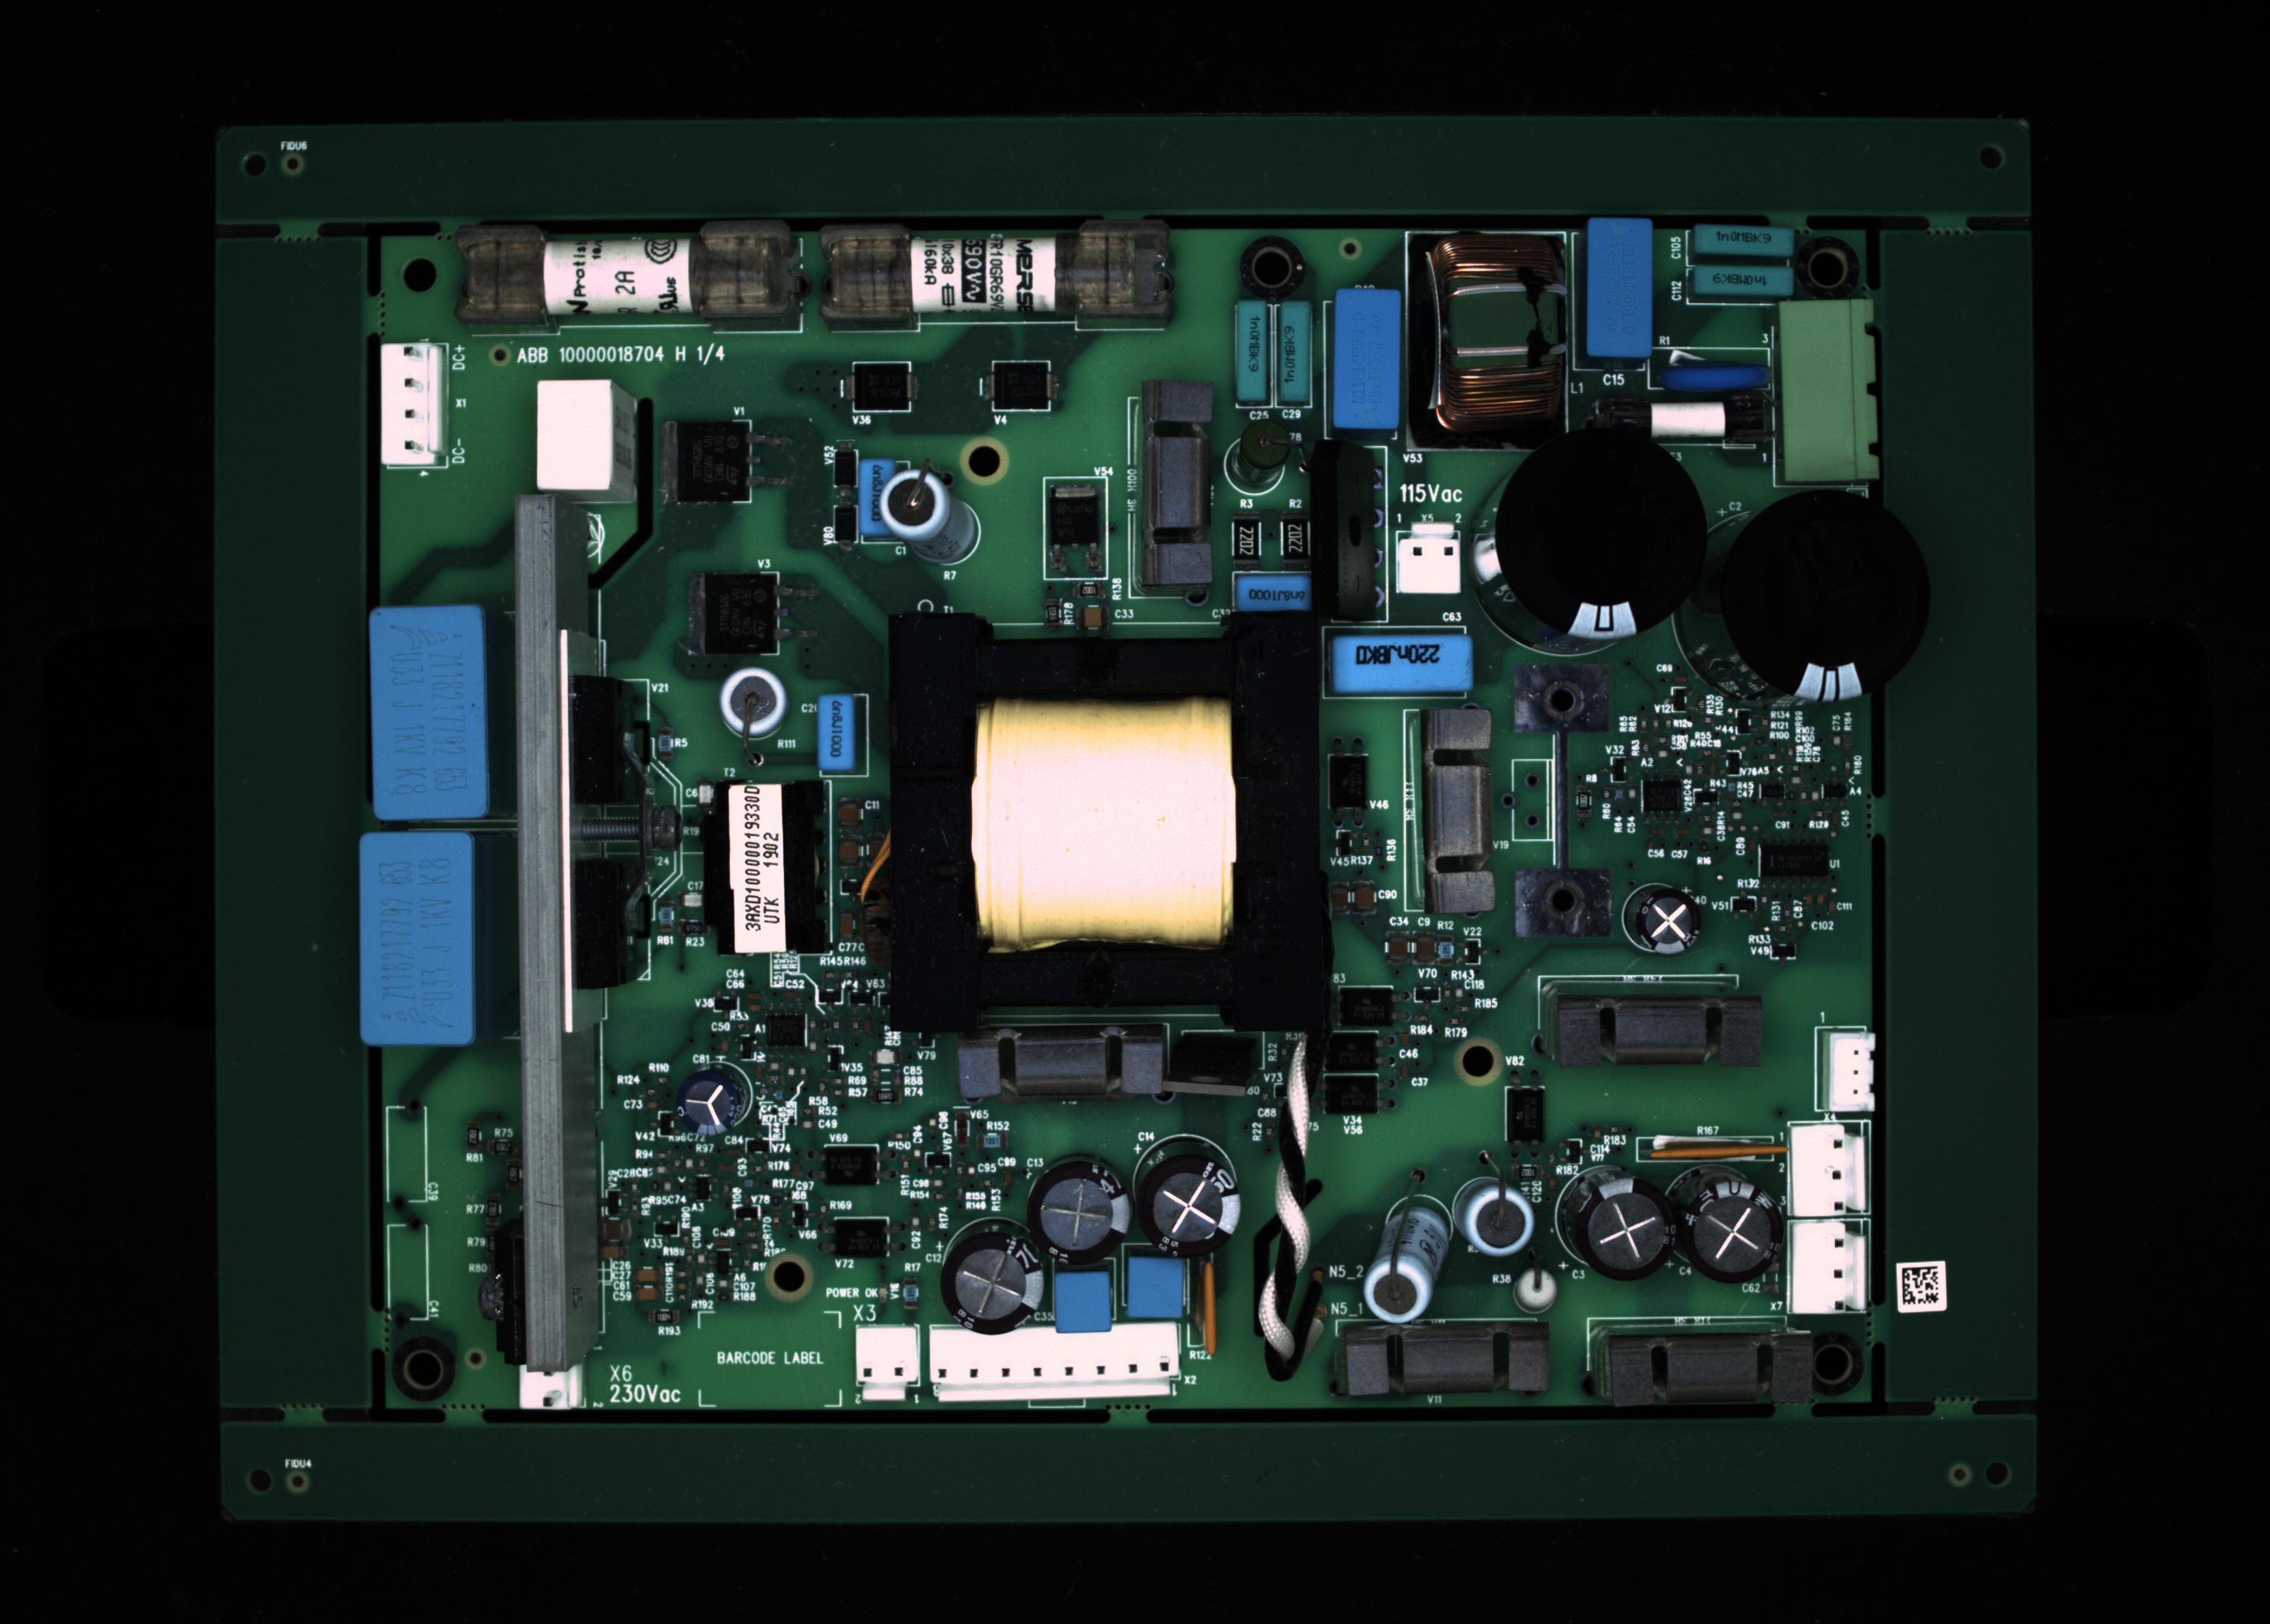10_p: (1648, 343, 1774, 390)
11_q: (1778, 299, 1881, 482)
12_r: (1591, 387, 1776, 455)
13_s: (380, 337, 447, 473)
14_t: (536, 383, 615, 490)
15_e: (860, 459, 900, 541)
16_k: (877, 460, 951, 534)
17_u: (1127, 376, 1206, 599)
18_v: (1234, 569, 1317, 615)
19_w: (1322, 626, 1475, 696)
1_a: (455, 216, 807, 336)
20_f: (1393, 515, 1468, 594)
21_g: (1495, 429, 1709, 645)
22_g: (1709, 478, 1925, 691)
23_h: (375, 608, 489, 831)
24_h: (362, 828, 478, 1042)
25_f: (515, 1360, 591, 1411)
26_f: (851, 1323, 927, 1403)
27_x: (925, 1323, 1185, 1415)
28_i: (1131, 1156, 1243, 1255)
29_i: (1034, 1169, 1134, 1274)
2_a: (819, 216, 1175, 330)
30_i: (934, 1227, 1046, 1341)
31_j: (1048, 1265, 1120, 1334)
32_j: (1124, 1253, 1197, 1329)
33_e: (818, 691, 872, 777)
34_k: (1364, 1244, 1433, 1323)
35_k: (1466, 1193, 1537, 1267)
36_i: (1574, 1178, 1679, 1283)
37_i: (1681, 1176, 1786, 1285)
38_l: (1336, 1318, 1554, 1420)
39_l: (1588, 1318, 1818, 1418)
3_b: (1236, 301, 1275, 404)
40_l: (1539, 972, 1772, 1063)
41_y: (1398, 700, 1498, 916)
42_z: (1816, 1023, 1878, 1109)
43_m: (1792, 1120, 1874, 1216)
44_m: (1788, 1225, 1876, 1311)
45_i: (668, 1065, 746, 1144)
46_n: (1338, 982, 1394, 1025)
47_n: (821, 1142, 881, 1181)
48_n: (833, 1214, 890, 1258)
49_aa: (765, 1007, 809, 1048)
4_b: (1280, 299, 1317, 410)
50_n: (1321, 1030, 1382, 1070)
51_n: (1322, 1072, 1382, 1114)
52_ab: (1328, 749, 1373, 817)
53_ac: (1635, 1125, 1795, 1158)
54_ad: (1194, 1253, 1222, 1364)
55_l: (957, 1021, 1175, 1118)
56_ae: (1175, 1028, 1266, 1095)
58_i: (1639, 891, 1702, 960)
59_o: (993, 359, 1053, 413)
5_c: (1328, 283, 1401, 439)
60_o: (855, 357, 911, 413)
6_6: (1408, 225, 1575, 443)
7_c: (1582, 214, 1651, 362)
8_d: (1684, 225, 1790, 258)
9_d: (1684, 262, 1793, 308)
